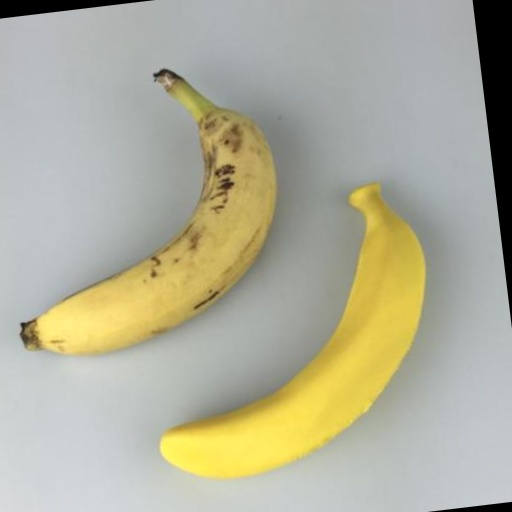fruit: (161, 184, 425, 478), (21, 71, 275, 354)
